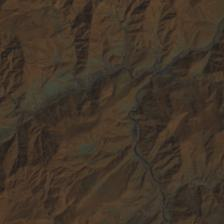landslides: (199, 17, 217, 26)
